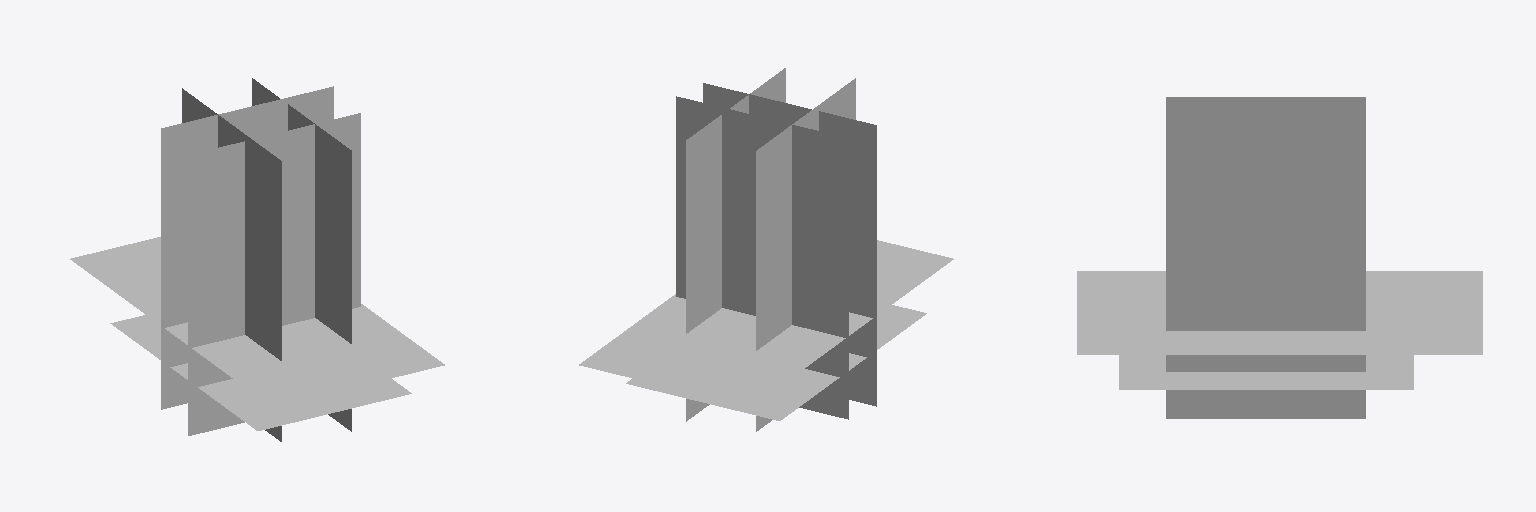
File: skybox.obj
The picture shows the model from 3 angles: view 1: azimuth 30°, elevation 25°; view 2: azimuth 150°, elevation 25°; view 3: azimuth 270°, elevation 25°; orthographic projection.
Parts seen in each view (by area): view 1: pPlane2 pPlane3 pPlane4 pPlane5 pPlane6 pPlane7; view 2: pPlane2 pPlane3 pPlane4 pPlane5 pPlane6 pPlane7; view 3: pPlane2 pPlane3 pPlane4 pPlane5 pPlane6 pPlane7.
Part boxes in pixels (left/top/right/bottom): pPlane2 pPlane3 pPlane4 pPlane5 pPlane6 pPlane7: left=70, top=78, right=444, bottom=441; pPlane2 pPlane3 pPlane4 pPlane5 pPlane6 pPlane7: left=579, top=68, right=953, bottom=431; pPlane2 pPlane3 pPlane4 pPlane5 pPlane6 pPlane7: left=1077, top=97, right=1482, bottom=418.
Bounding box in the file's own units: 184 × 287 × 367.